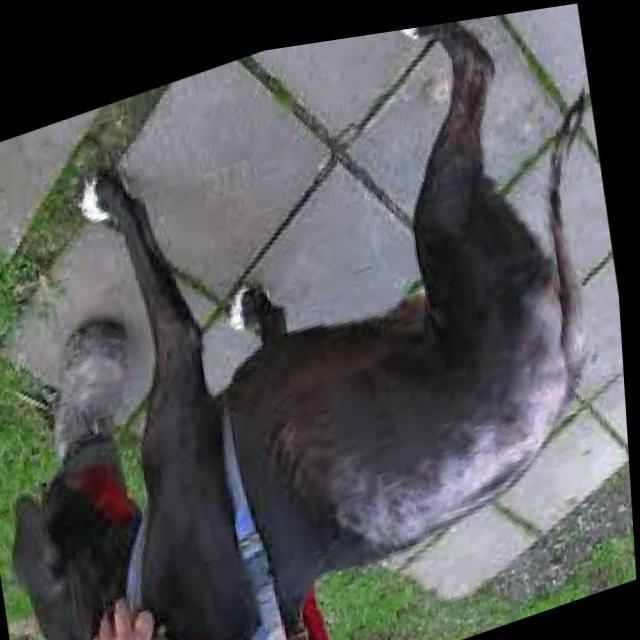allergic dermatitis: (317, 427, 524, 546), (501, 273, 568, 459)
